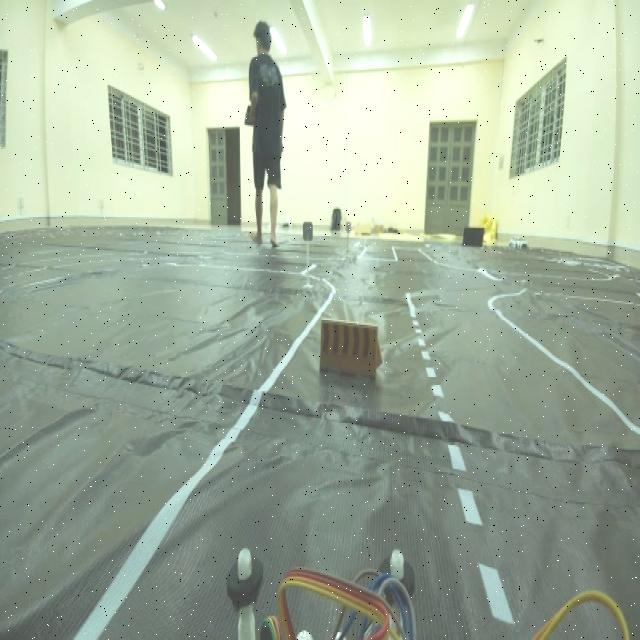roadblock: (311, 297, 384, 392)
